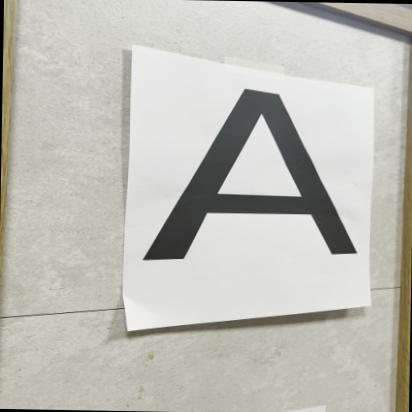seat: (132, 79, 368, 271)
